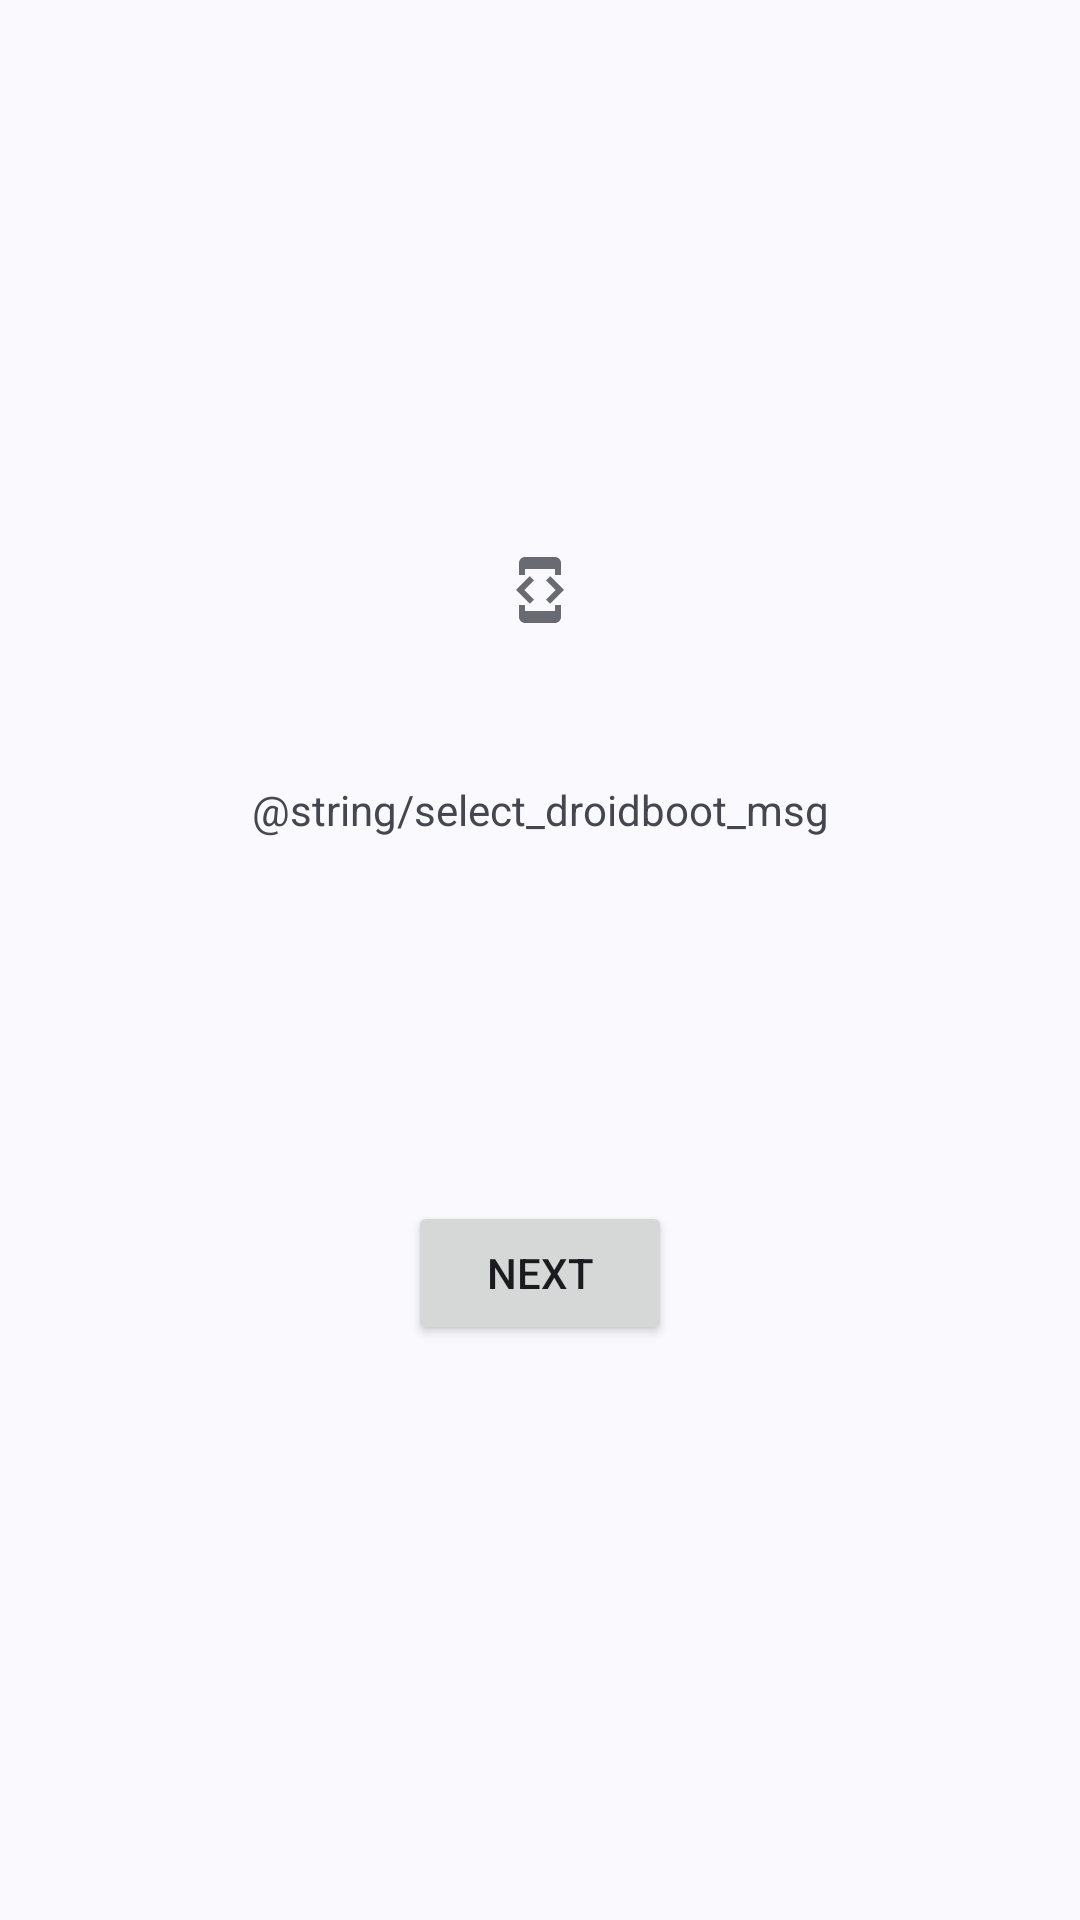

Icon click points for this 1080w x 1920h phone screenshot, format (x=x, y=y):
droidbooticon: (x=540, y=590)
